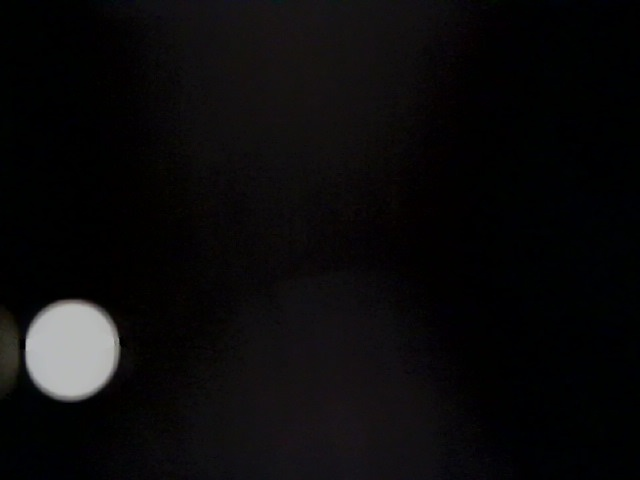YHLJ: (38, 56, 260, 214)
